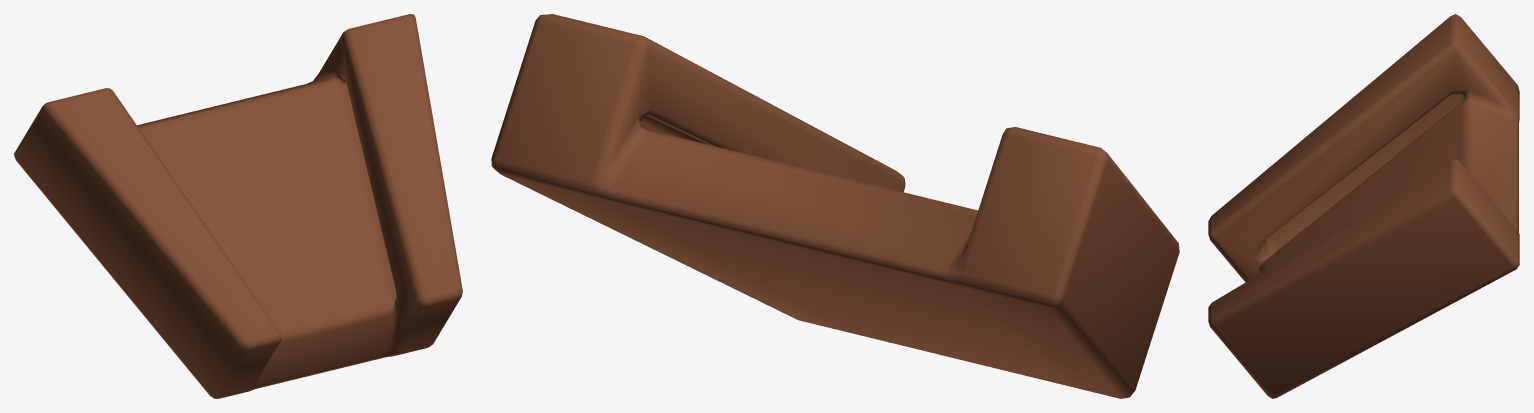
Rendered from EggFallObject.fbx.
The picture shows the model from 3 angles, left to right: view 1: azimuth 30°, elevation 25°; view 2: azimuth 150°, elevation 25°; view 3: azimuth 270°, elevation 25°; orthographic projection. The views are drawn at different scales.
Parts seen in each view (by area): view 1: EggFallObject; view 2: EggFallObject; view 3: EggFallObject.
Boxes of the visible parts, x1,y1,x2,y2 form: EggFallObject: [14, 14, 462, 398]; EggFallObject: [491, 14, 1179, 398]; EggFallObject: [1208, 14, 1519, 398].
Bounding box in the file's own units: 0.2106 × 0.1343 × 0.1539.
